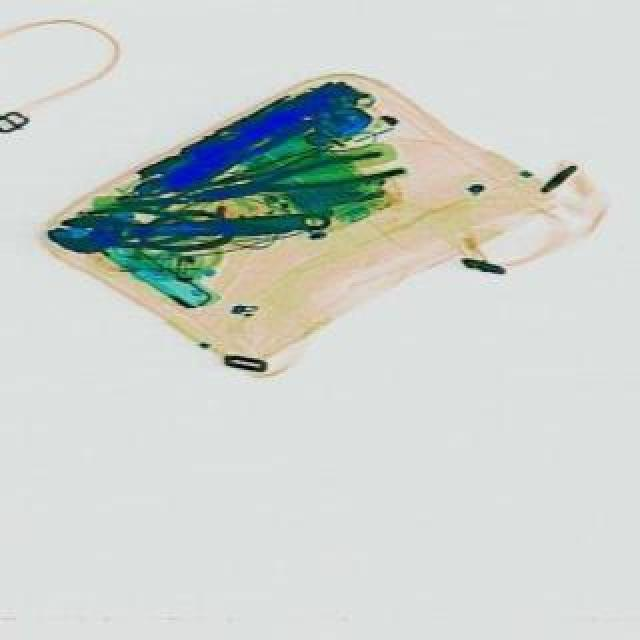scissors: (52, 206, 338, 258)
wrench: (192, 146, 410, 216)
